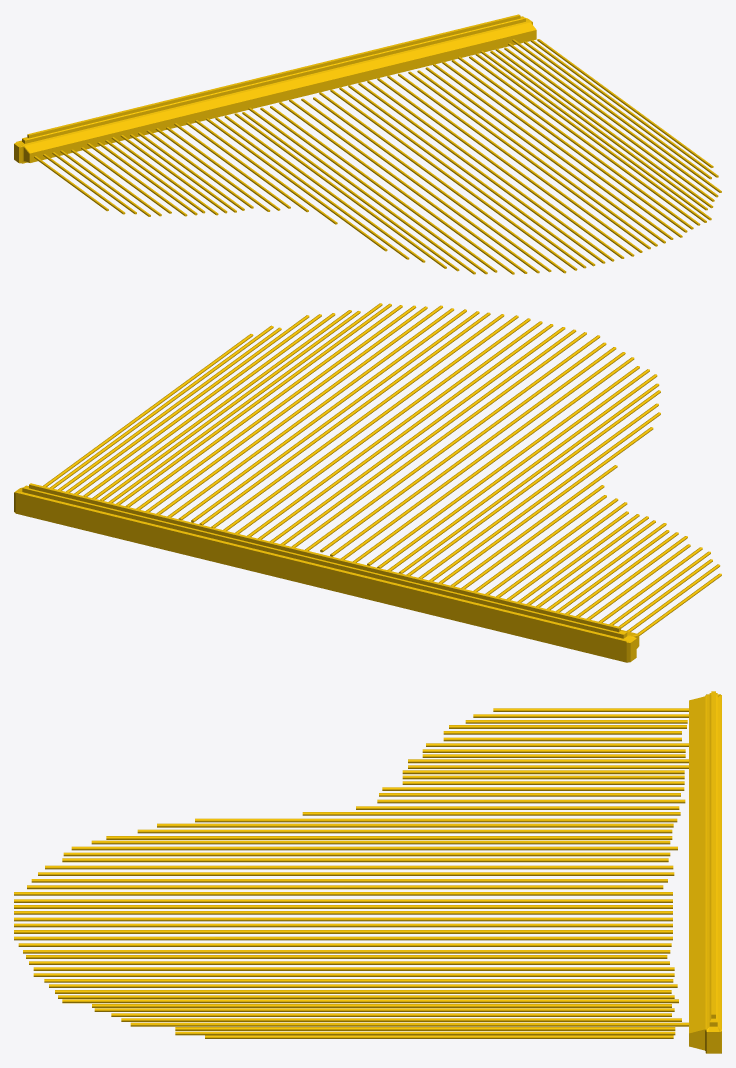
File: piano1.obj
3 renders of one model, top to bottom at view 1: azimuth 30°, elevation 25°; view 2: azimuth 150°, elevation 25°; view 3: azimuth 270°, elevation 25°, orthographic. The views are drawn at different scales.
Visible parts, largest first — view 1: group62 _Piano:pCube7, group62 _Piano:pCylinder26, group62 _Piano:pCylinder29, group62 _Piano:pCylinder28, group62 _Piano:pCylinder23, group62 _Piano:pCylinder25, group62 _Piano:pCylinder24, group62 _Piano:pCylinder22, group62 _Piano:pCylinder27, group62 _Piano:pCylinder21, group62 _Piano:pCylinder20, group62 _Piano:pCylinder18 (+38 smaller); view 2: group62 _Piano:pCube7, group62 _Piano:pCylinder26, group62 _Piano:pCylinder24, group62 _Piano:pCylinder22, group62 _Piano:pCylinder28, group62 _Piano:pCylinder29, group62 _Piano:pCylinder23, group62 _Piano:pCylinder25, group62 _Piano:pCylinder27, group62 _Piano:pCylinder21, group62 _Piano:pCylinder20, group62 _Piano:pCylinder19 (+36 smaller); view 3: group62 _Piano:pCube7, group62 _Piano:pCylinder25, group62 _Piano:pCylinder24, group62 _Piano:pCylinder22, group62 _Piano:pCylinder30, group62 _Piano:pCylinder33, group62 _Piano:pCylinder11, group62 _Piano:pCylinder35, group62 _Piano:pCylinder34, group62 _Piano:pCylinder36, group62 _Piano:pCylinder37, group62 _Piano:pCylinder6 (+47 smaller).
Boxes of the visible parts, left/top/right/bottom form: group62 _Piano:pCube7: left=14, top=14, right=536, bottom=163; group62 _Piano:pCylinder26: left=348, top=85, right=595, bottom=266; group62 _Piano:pCylinder29: left=319, top=92, right=566, bottom=273; group62 _Piano:pCylinder28: left=330, top=89, right=577, bottom=270; group62 _Piano:pCylinder23: left=377, top=78, right=624, bottom=258; group62 _Piano:pCylinder25: left=358, top=82, right=605, bottom=263; group62 _Piano:pCylinder24: left=367, top=80, right=614, bottom=261; group62 _Piano:pCylinder22: left=387, top=75, right=634, bottom=256; group62 _Piano:pCylinder27: left=339, top=87, right=586, bottom=268; group62 _Piano:pCylinder21: left=398, top=73, right=642, bottom=252; group62 _Piano:pCylinder20: left=408, top=71, right=650, bottom=249; group62 _Piano:pCylinder18: left=425, top=67, right=665, bottom=243; group62 _Piano:pCube7: left=14, top=483, right=639, bottom=662; group62 _Piano:pCylinder26: left=270, top=327, right=565, bottom=542; group62 _Piano:pCylinder24: left=247, top=321, right=542, bottom=536; group62 _Piano:pCylinder22: left=223, top=315, right=518, bottom=530; group62 _Piano:pCylinder28: left=291, top=332, right=586, bottom=547; group62 _Piano:pCylinder29: left=305, top=335, right=600, bottom=550; group62 _Piano:pCylinder23: left=235, top=318, right=530, bottom=533; group62 _Piano:pCylinder25: left=258, top=324, right=553, bottom=539; group62 _Piano:pCylinder27: left=281, top=329, right=576, bottom=544; group62 _Piano:pCylinder21: left=211, top=314, right=504, bottom=527; group62 _Piano:pCylinder20: left=199, top=312, right=490, bottom=524; group62 _Piano:pCylinder19: left=191, top=311, right=479, bottom=522; group62 _Piano:pCube7: left=689, top=691, right=721, bottom=1053; group62 _Piano:pCylinder25: left=14, top=917, right=672, bottom=921; group62 _Piano:pCylinder24: left=14, top=923, right=672, bottom=927; group62 _Piano:pCylinder22: left=14, top=936, right=672, bottom=940; group62 _Piano:pCylinder30: left=27, top=885, right=663, bottom=889; group62 _Piano:pCylinder33: left=45, top=865, right=673, bottom=869; group62 _Piano:pCylinder11: left=62, top=999, right=678, bottom=1003; group62 _Piano:pCylinder35: left=63, top=852, right=670, bottom=856; group62 _Piano:pCylinder34: left=62, top=858, right=668, bottom=862; group62 _Piano:pCylinder36: left=71, top=846, right=677, bottom=850; group62 _Piano:pCylinder37: left=91, top=840, right=670, bottom=844; group62 _Piano:pCylinder6: left=130, top=1022, right=688, bottom=1026.
Bounding box in the file's own units: 14.86 × 0.6805 × 13.17.
